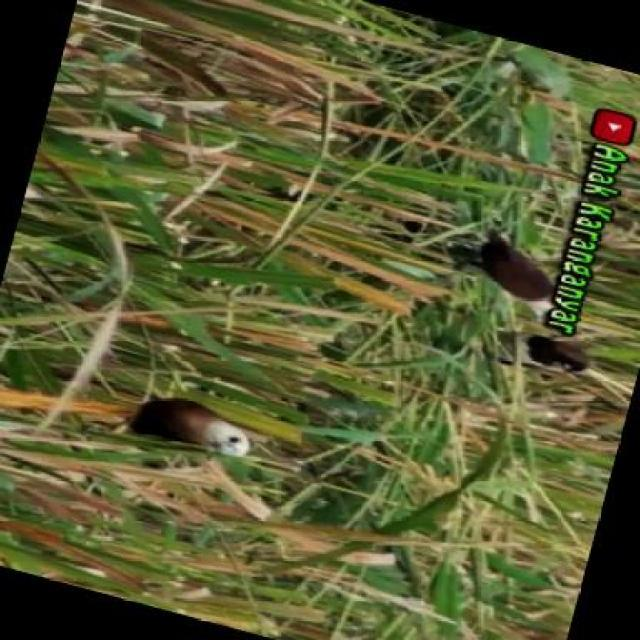Bird: (127, 382, 254, 463), (452, 229, 550, 313), (529, 329, 590, 380)
